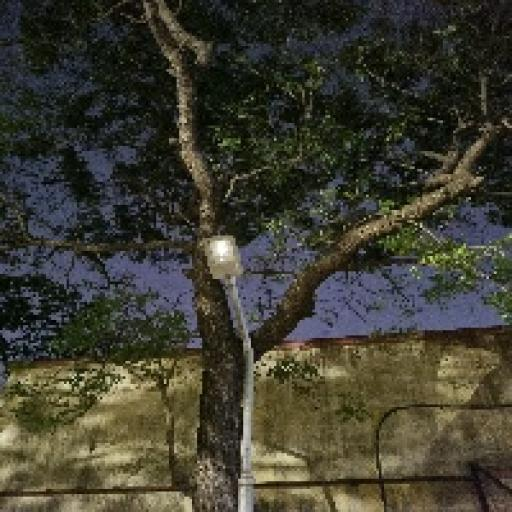Not Working: (198, 232, 251, 290)
